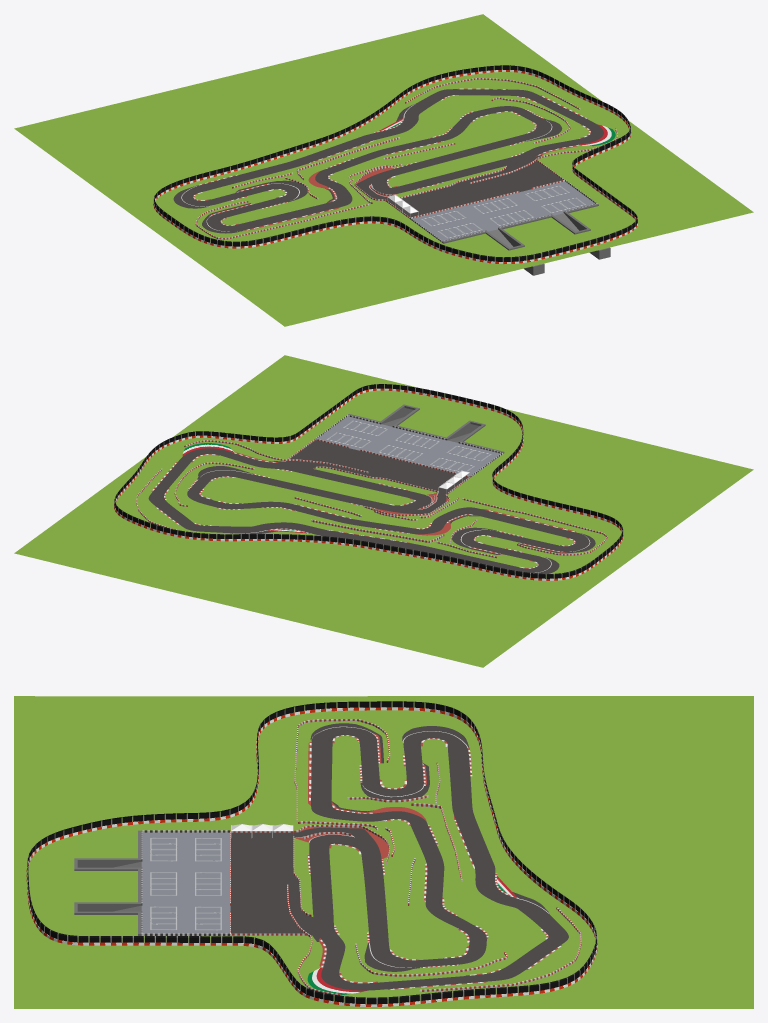
The model's file is race_trackkarting_track_based_on_south_garda.glb.
3 views of the same model, one above another, from view 1: azimuth 30°, elevation 25°; view 2: azimuth 150°, elevation 25°; view 3: azimuth 270°, elevation 25° (orthographic). The views are drawn at different scales.
Visible parts, largest first — view 1: Plane.009, TRACK, Cube, Plane.013, PARKING, TRACK.001, BARRIER3; view 2: Plane.009, TRACK, Cube, Plane.013, PARKING, TRACK.001, BARRIER3; view 3: Plane.009, TRACK, Plane.013, Cube, PARKING, TRACK.001, BARRIER_PITS.003, BARRIER9.
Part boxes in pixels (box(x1,y1,x2,y2)): Plane.009: box(14, 14, 753, 326); TRACK: box(173, 88, 615, 233); Cube: box(153, 65, 638, 264); Plane.013: box(442, 203, 643, 276); PARKING: box(412, 181, 595, 241); TRACK.001: box(389, 162, 562, 217); BARRIER3: box(195, 201, 369, 239); Plane.009: box(14, 355, 753, 667); TRACK: box(148, 443, 595, 575); Cube: box(114, 384, 623, 580); Plane.013: box(348, 382, 549, 453); PARKING: box(317, 416, 500, 475); TRACK.001: box(290, 440, 468, 494); BARRIER3: box(462, 498, 607, 555); Plane.009: box(14, 696, 753, 1008); TRACK: box(293, 723, 568, 994); Plane.013: box(14, 830, 141, 935); Cube: box(26, 701, 597, 1006); PARKING: box(141, 832, 230, 933); TRACK.001: box(230, 832, 299, 933); BARRIER_PITS.003: box(141, 830, 229, 935); BARRIER9: box(419, 907, 581, 991).
Size of the model in its own units: 4.52 by 0.1651 by 4.52.
Materials: 6 (5 with a texture image).
